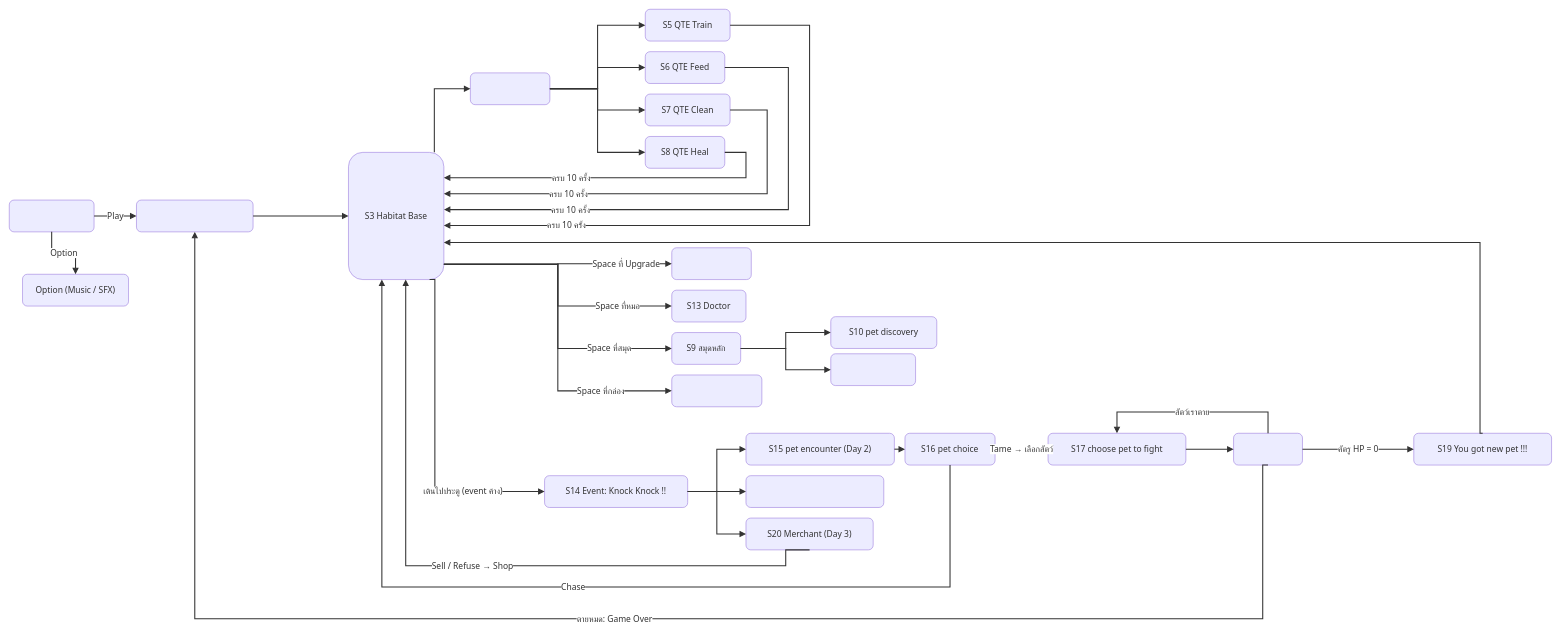
Image size: 1561x633. Some labels were removed from this diagram. Each missing label, with the centre of its shape:
Box / Inventory: pixel 716 390
Day 4 Storm / Day 5 Big Z: pixel 814 491
S1 Main Menu: pixel 51 216
S11 Disaster: pixel 873 369
S12 Upgrade: pixel 711 263
S18 fight: pixel 1267 449
S2 Choose first pet: pixel 194 216
S4 Care pet: pixel 510 88
